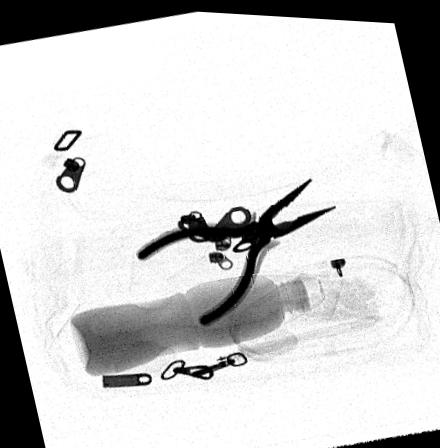Pliers: (135, 169, 340, 326)
